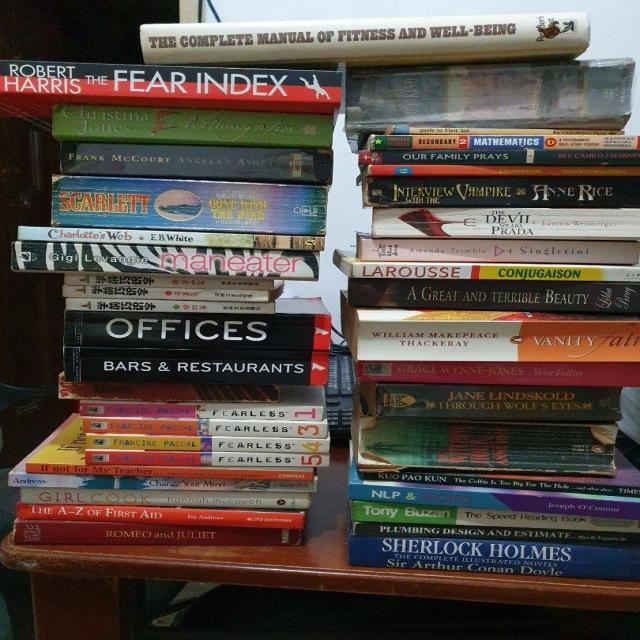book: (138, 13, 590, 63), (345, 62, 632, 131), (51, 176, 328, 236), (357, 417, 618, 473), (0, 61, 341, 102), (348, 535, 640, 581), (358, 320, 640, 361), (11, 242, 320, 279), (59, 141, 334, 182), (52, 105, 333, 145), (64, 310, 329, 350), (348, 277, 640, 313), (349, 483, 640, 518), (64, 347, 329, 385), (351, 501, 640, 531), (375, 385, 622, 420), (372, 207, 640, 239), (369, 176, 640, 206), (362, 469, 640, 497), (18, 226, 324, 250), (16, 504, 306, 529), (14, 520, 302, 545), (356, 521, 640, 546), (356, 361, 640, 386), (361, 240, 639, 264), (20, 487, 310, 509), (9, 474, 318, 492), (352, 263, 640, 281), (83, 418, 327, 438), (80, 401, 323, 420), (25, 464, 313, 480), (371, 135, 640, 151), (59, 381, 280, 400), (85, 451, 331, 468), (85, 436, 329, 453), (359, 151, 640, 164), (65, 274, 275, 290), (63, 286, 268, 302), (369, 164, 640, 176), (67, 300, 276, 315)
